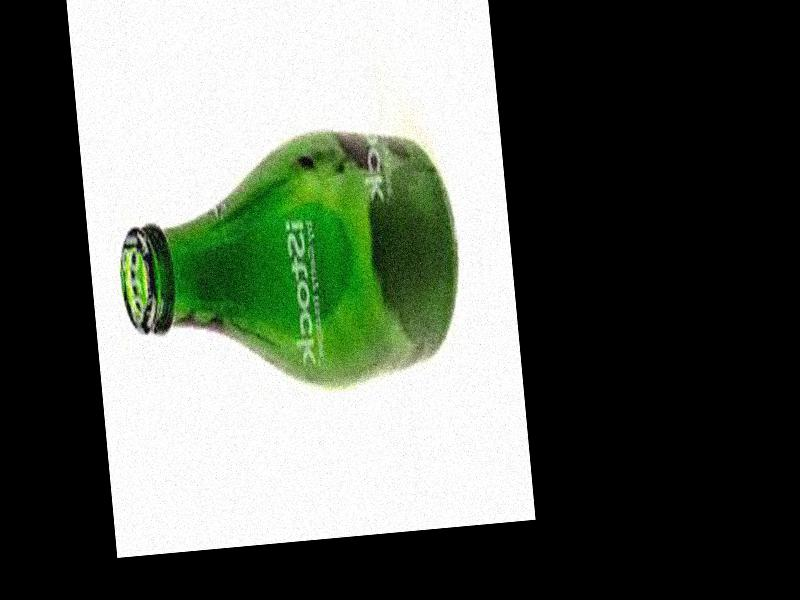Beer: (107, 118, 469, 407)
